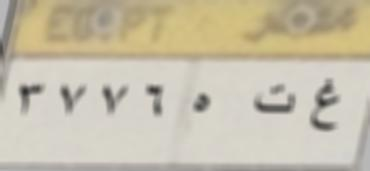3: (15, 78, 46, 126)
6: (138, 79, 168, 124)
7: (53, 78, 88, 123), (101, 80, 132, 119)
ghayn: (306, 73, 344, 138)
haa: (190, 90, 214, 120)
taa: (250, 78, 296, 124)
